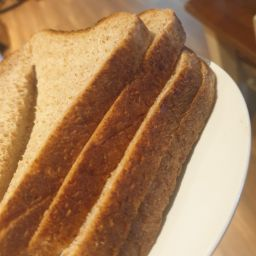Breads: (7, 12, 219, 256)
